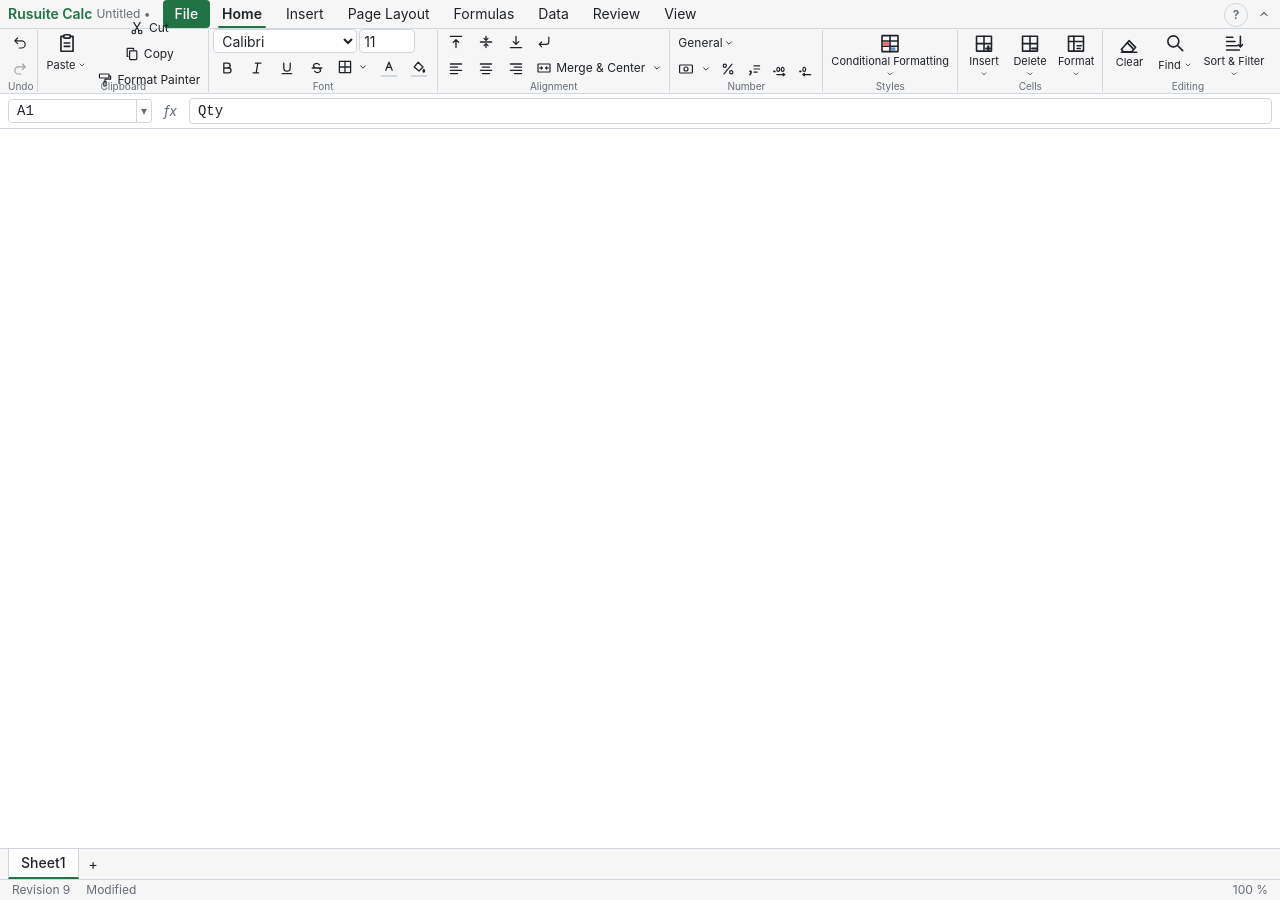
Name Manager › lists names with their values and edits refers-to in place
This screenshot has width=1280, height=900.
Expected: the tab "Sheet1" is shown, x1=8 y1=849 x2=78 y2=879
Expected: the button named "Bold" is enabled, x1=213 y1=56 x2=241 y2=80
Step 1. Click the tab "Formulas" → coordinates (484, 14), box x1=442 y1=0 x2=526 y2=28
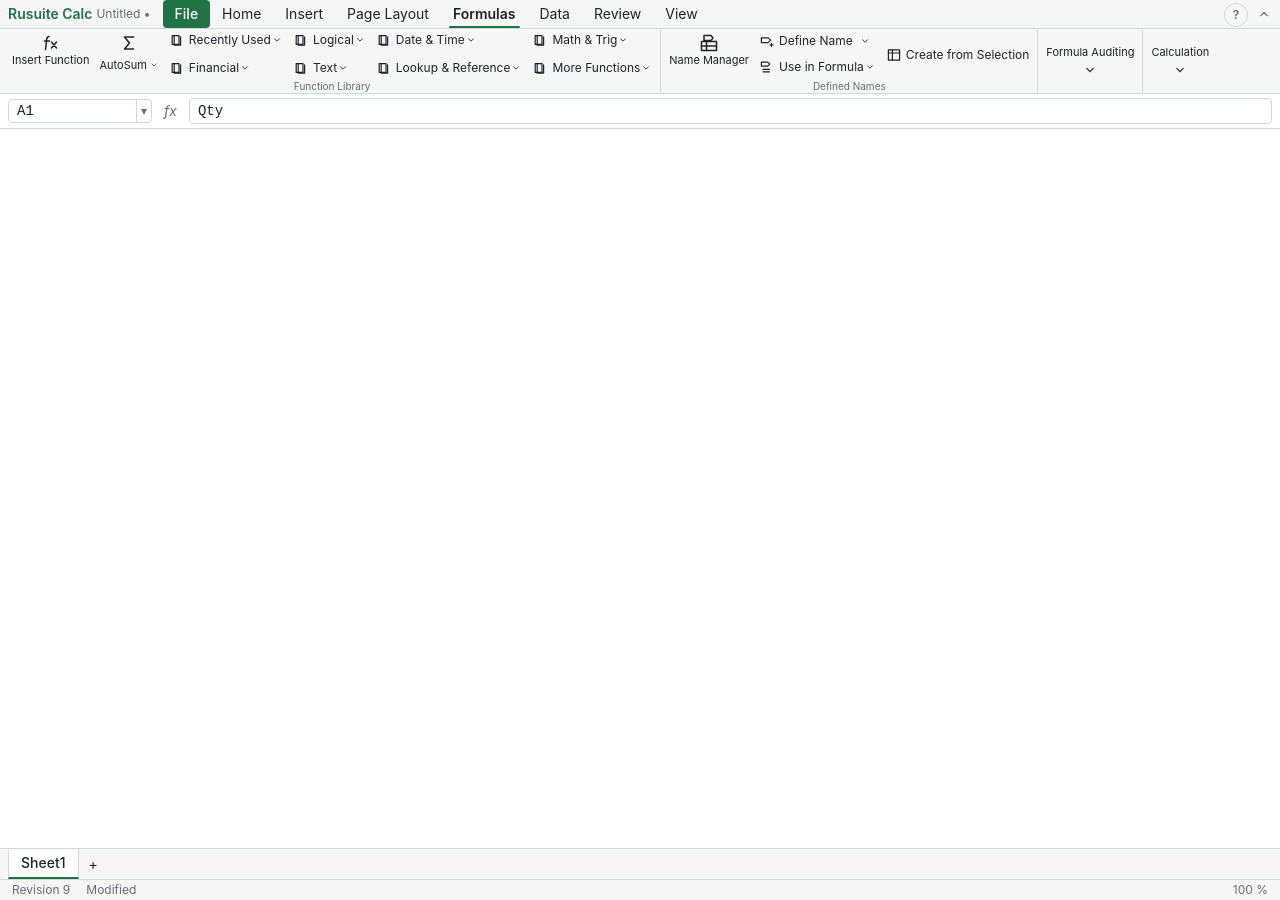
Step 2. Click the button "Name Manager" → coordinates (709, 55), box x1=665 y1=31 x2=753 y2=79
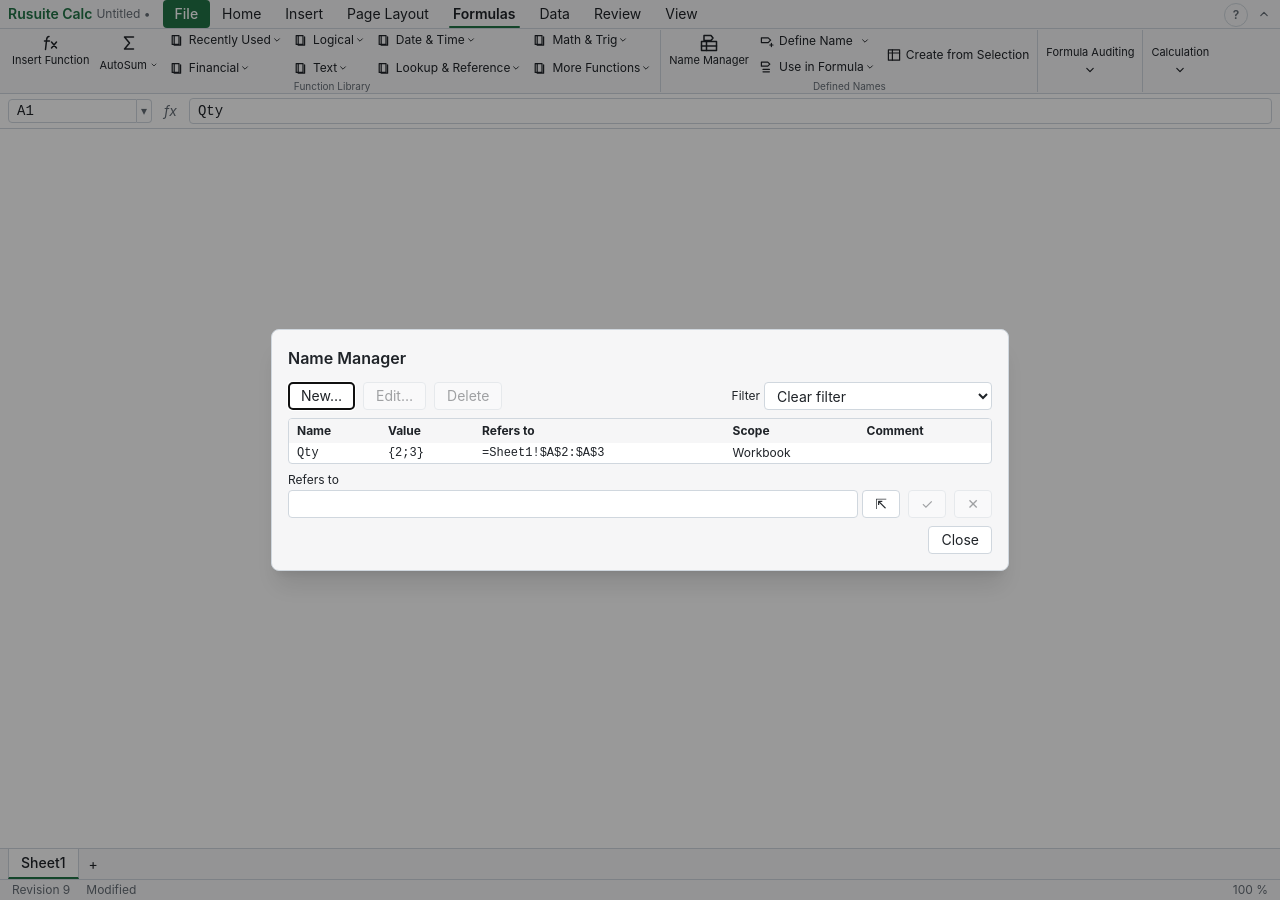
Now the text "{2;3}" is shown, box x1=380 y1=443 x2=474 y2=463
Step 3. Click the cell "Qty" → coordinates (308, 453), box x1=289 y1=443 x2=380 y2=463
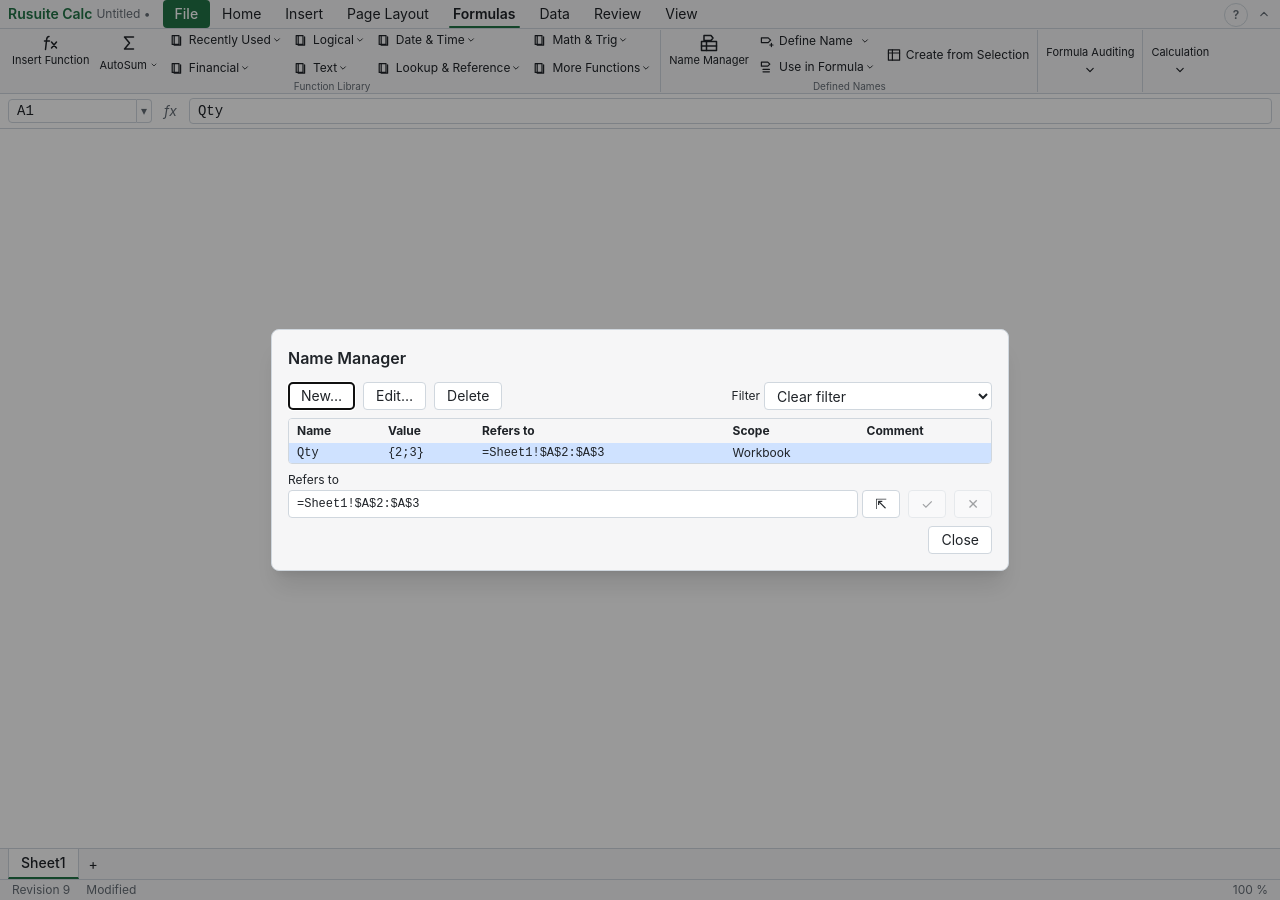
Now the field with test id "manager-refers-to" holds "=Sheet1!$A$2:$A$3"
Step 4. Replace the text in the field with test id "manager-refers-to" with "=Sheet1!$B$2:$B$3" → coordinates (573, 504), box x1=288 y1=490 x2=858 y2=518
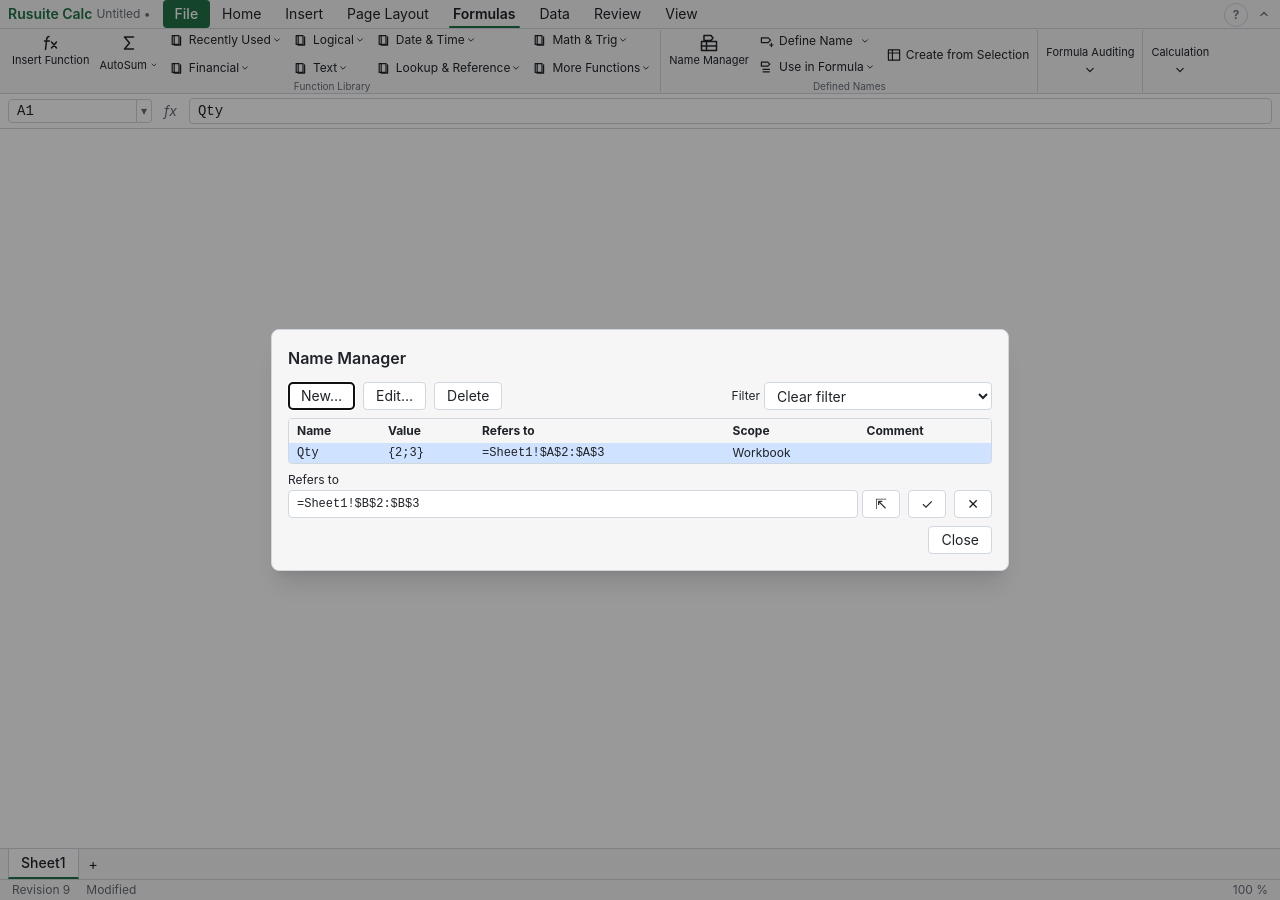
Step 5. Click the button named "Apply the definition" → coordinates (927, 504), box x1=908 y1=490 x2=946 y2=518
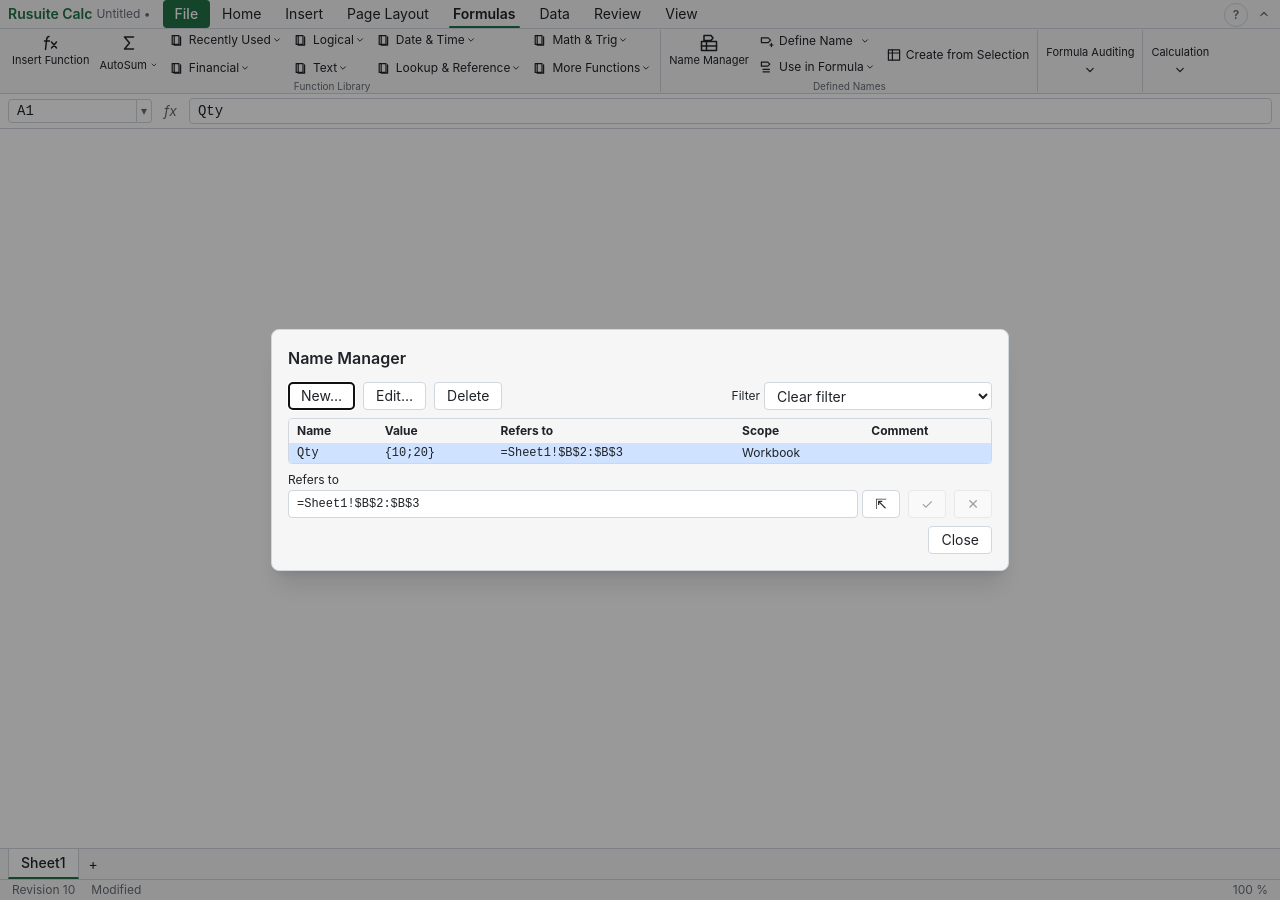
Now the text "{10;20}" is shown, box x1=377 y1=443 x2=492 y2=463
